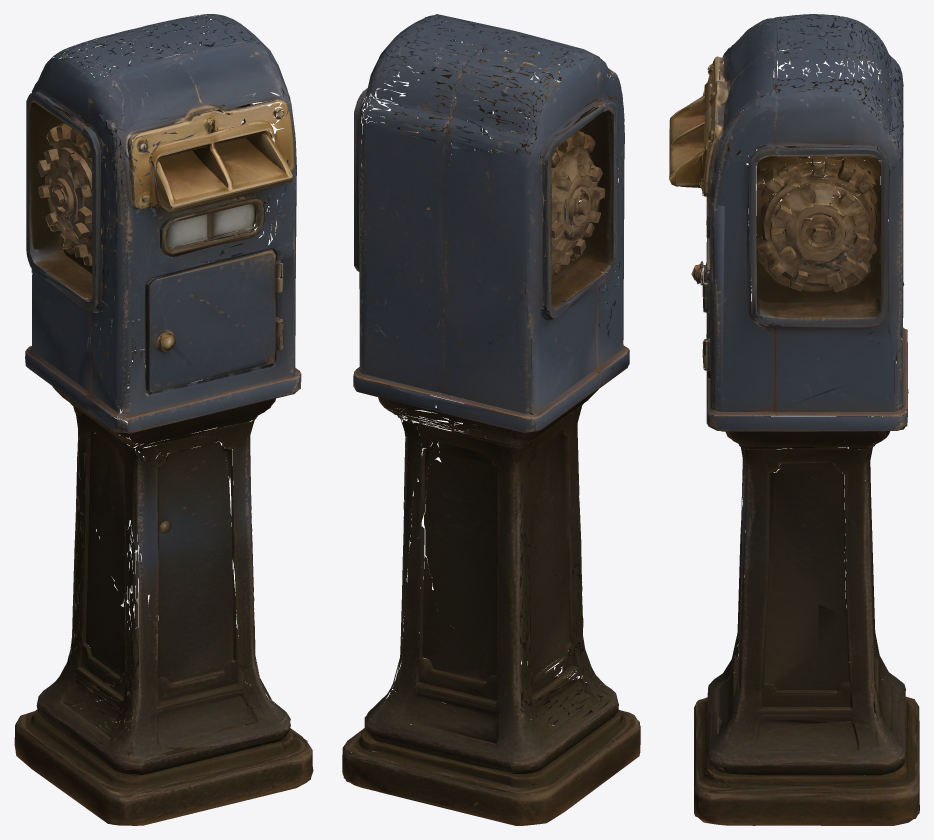
The model's file is ch03_night_ticket_reader.glb.
3 renders of one model, left to right at view 1: azimuth 30°, elevation 25°; view 2: azimuth 150°, elevation 25°; view 3: azimuth 270°, elevation 25°, orthographic.
Parts seen in each view (by area): view 1: material; view 2: material; view 3: material.
Boxes of the visible parts, x1,y1,x2,y2 form: material: [14, 14, 313, 825]; material: [342, 14, 640, 825]; material: [669, 14, 919, 825].
Bounding box in the file's own units: 0.3317 × 1.12 × 0.3496.
Materials: 1 (1 with a texture image).
